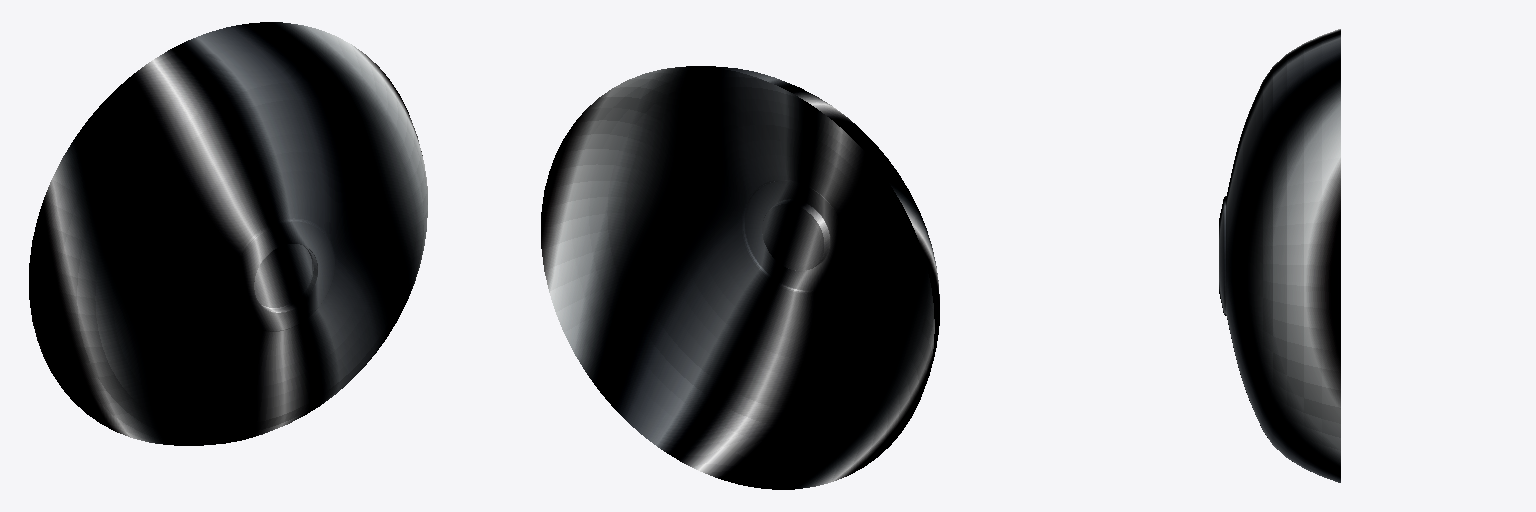
The picture shows the model from 3 angles: view 1: azimuth 30°, elevation 25°; view 2: azimuth 150°, elevation 25°; view 3: azimuth 270°, elevation 25°; orthographic projection.
Parts seen in each view (by area): view 1: eye; view 2: eye; view 3: eye.
Boxes of the visible parts, x1,y1,x2,y2 form: eye: [29, 22, 427, 445]; eye: [541, 66, 939, 489]; eye: [1219, 29, 1340, 482].
Bounding box in the file's own units: 3.23 × 3.23 × 0.8592.
Materials: 1 (1 with a texture image).